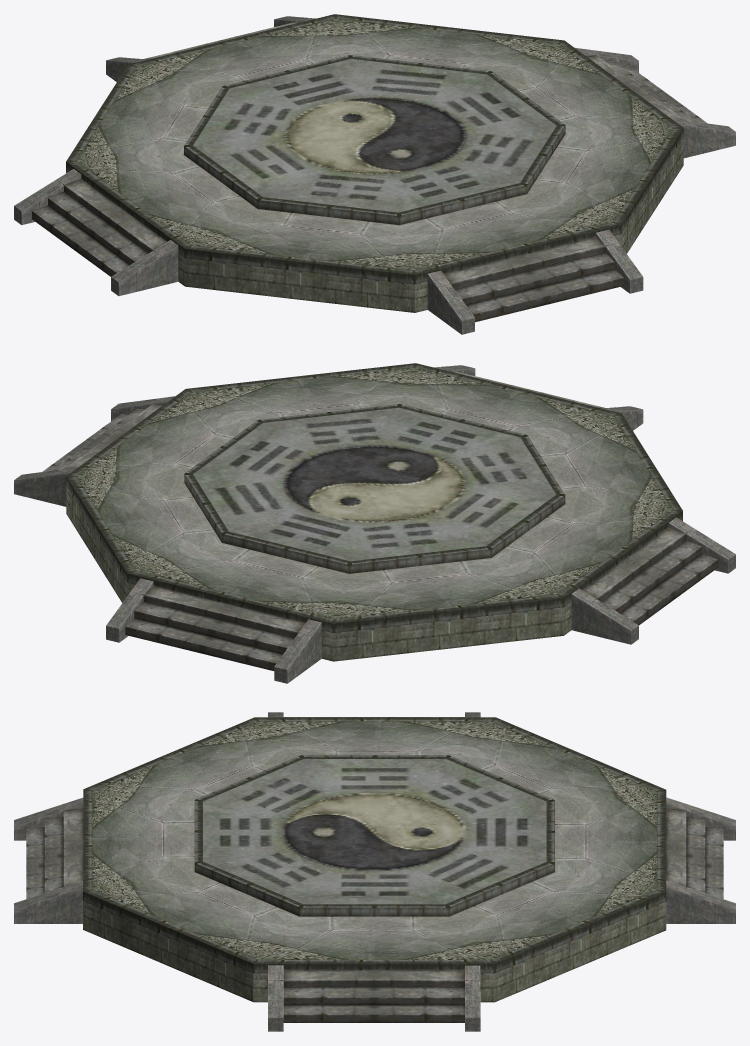
Rendered from d_lianqi_taizi01.FBX.
The picture shows the model from 3 angles, top to bottom: view 1: azimuth 30°, elevation 25°; view 2: azimuth 150°, elevation 25°; view 3: azimuth 270°, elevation 25°; orthographic projection.
Visible parts, largest first — view 1: d_lianqi_paifang01_jz_A01, d_lianqi_paifang01_jz_A02; view 2: d_lianqi_paifang01_jz_A01, d_lianqi_paifang01_jz_A02; view 3: d_lianqi_paifang01_jz_A01, d_lianqi_paifang01_jz_A02.
Boxes of the visible parts, box(x1,y1,x2,y2) form: d_lianqi_paifang01_jz_A01: box(14, 14, 735, 334); d_lianqi_paifang01_jz_A02: box(32, 20, 707, 322); d_lianqi_paifang01_jz_A01: box(14, 363, 735, 683); d_lianqi_paifang01_jz_A02: box(42, 369, 717, 670); d_lianqi_paifang01_jz_A01: box(14, 712, 735, 1031); d_lianqi_paifang01_jz_A02: box(26, 717, 723, 1022).
Size of the model in its own units: 9240 by 669 by 9228.
Materials: 2 (2 with a texture image).
